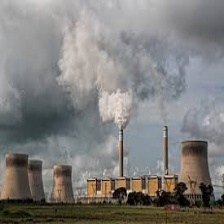smoke: (60, 30, 178, 122)
